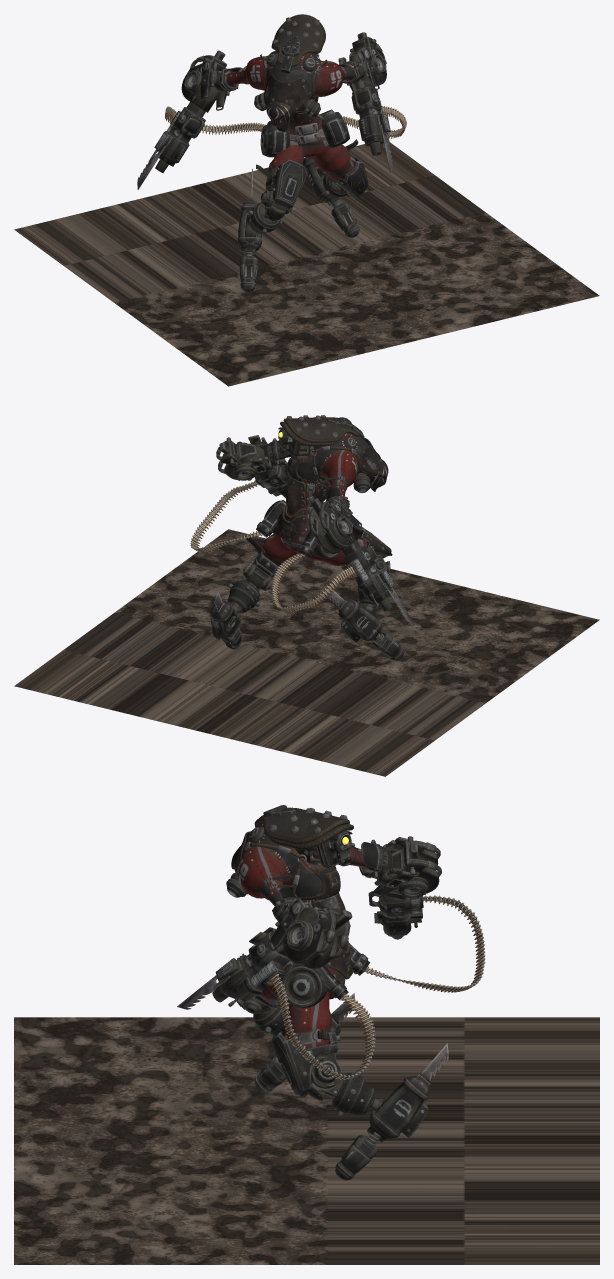
3 views of the same model, one above another, from view 1: azimuth 30°, elevation 25°; view 2: azimuth 150°, elevation 25°; view 3: azimuth 270°, elevation 25° (orthographic). The views are drawn at different scales.
Visible parts, largest first — view 1: Plane, Body_Mesh.002; view 2: Plane, Body_Mesh.002; view 3: Plane, Body_Mesh.002.
Part boxes in pixels (bbox=[...]): Plane: bbox=[14, 142, 599, 386]; Body_Mesh.002: bbox=[137, 14, 406, 292]; Plane: bbox=[14, 529, 599, 776]; Body_Mesh.002: bbox=[190, 415, 414, 660]; Plane: bbox=[14, 1017, 599, 1264]; Body_Mesh.002: bbox=[177, 805, 485, 1180].
Size of the model in its own units: 3.85 by 2.36 by 3.85.
